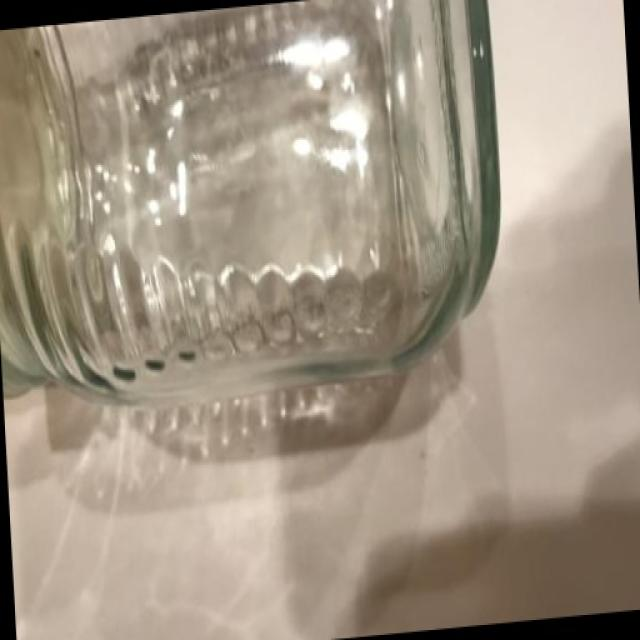vidrio: (1, 13, 529, 526)
